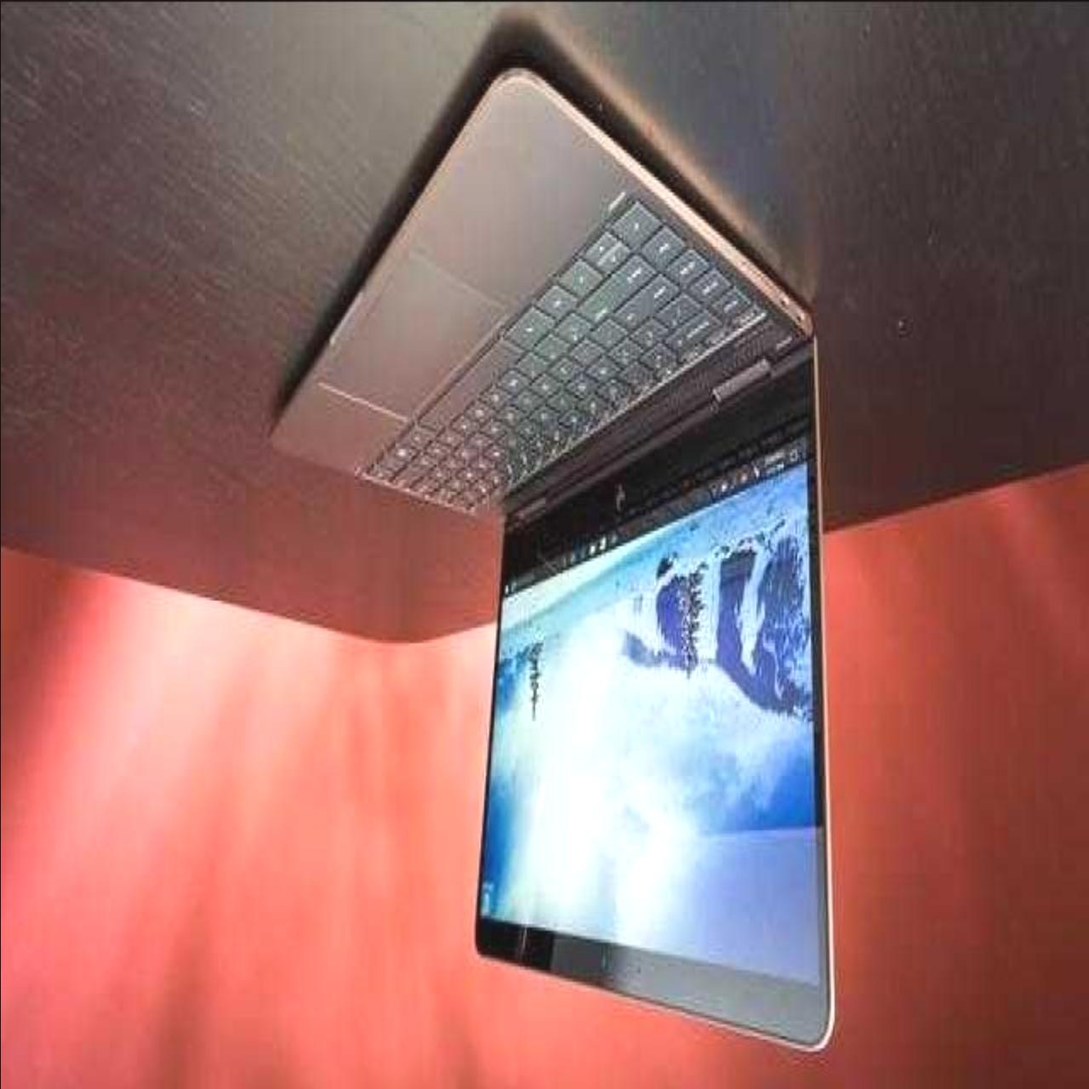laptop: (339, 103, 838, 1020)
